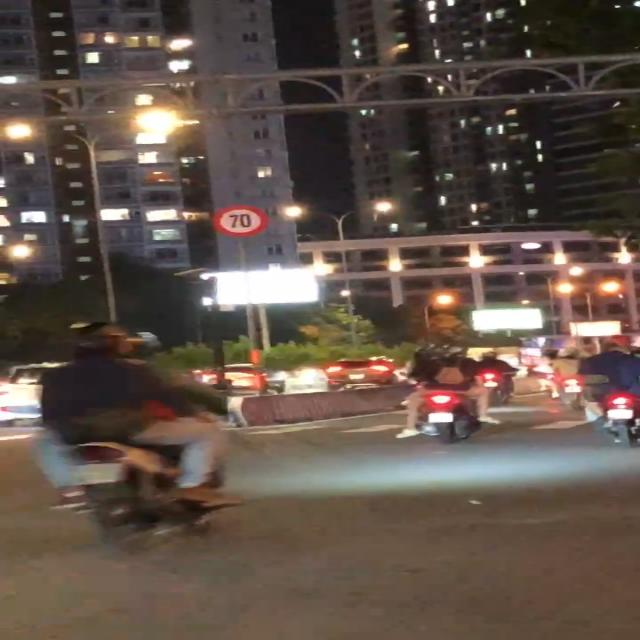Bien bao toc do toi da cho phep: (208, 203, 270, 240)
